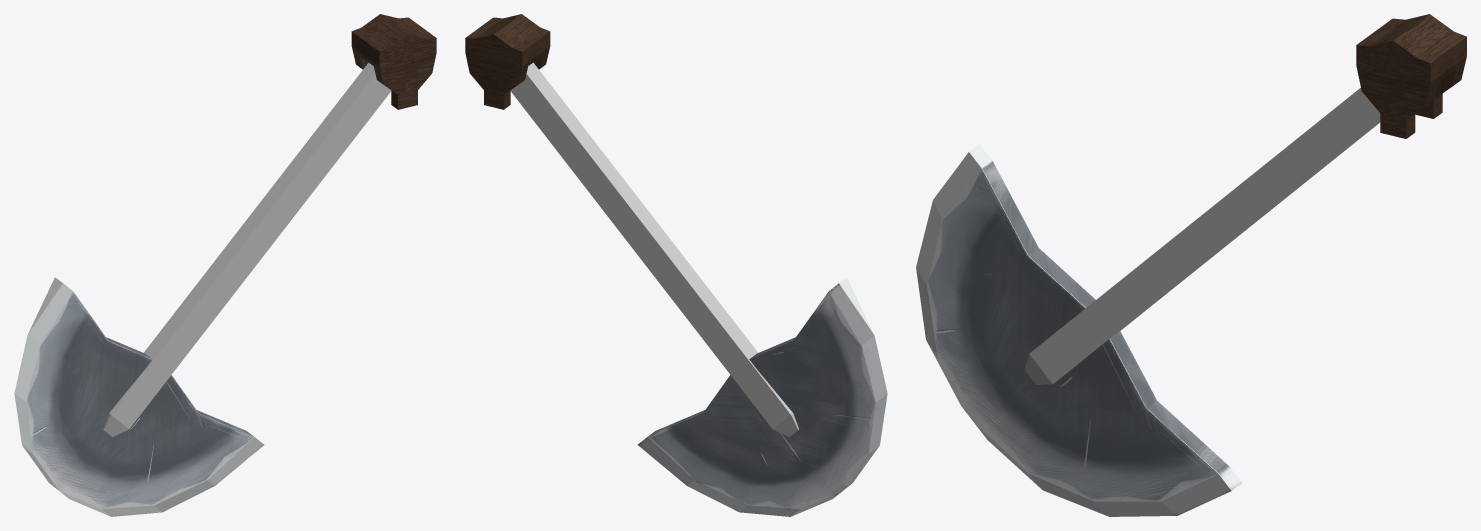
Rendered from axe.gltf.
3 renders of one model, left to right at view 1: azimuth 30°, elevation 25°; view 2: azimuth 150°, elevation 25°; view 3: azimuth 330°, elevation 25°, orthographic. The views are drawn at different scales.
Visible parts, largest first — view 1: PendulumBlade, PendulumPole, PendulumHolder; view 2: PendulumBlade, PendulumPole, PendulumHolder; view 3: PendulumBlade, PendulumPole, PendulumHolder.
Boxes of the visible parts, box(x1,y1,x2,y2) form: PendulumBlade: box(14, 277, 264, 516); PendulumPole: box(103, 62, 391, 437); PendulumHolder: box(351, 14, 436, 109); PendulumBlade: box(637, 277, 887, 516); PendulumPole: box(510, 62, 798, 437); PendulumHolder: box(465, 14, 550, 109); PendulumBlade: box(916, 144, 1241, 516); PendulumPole: box(1024, 88, 1380, 385); PendulumHolder: box(1356, 14, 1466, 138).
Bounding box in the file's own units: 2.87 × 2.9 × 0.34.
